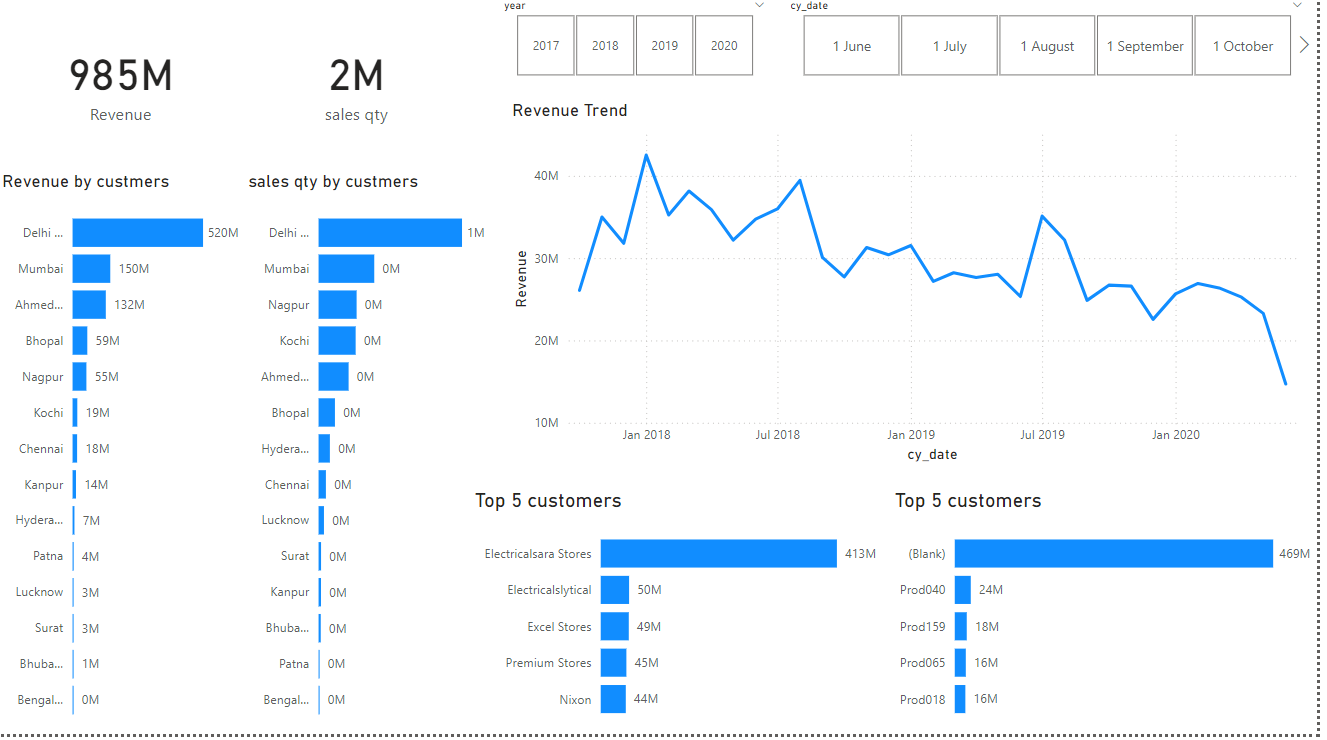

The page's visual inventory and layout, read from the dashboard file:
{"tool":"powerbi","page":{"name":"Page 1","canvas":[1280,720],"ordinal":0},"visuals":[{"type":"card","fields":{"Values":["BaseMeasures.Revenue"]},"box":[0,0,239.2,172.6],"z":0},{"type":"card","fields":{"Values":["BaseMeasures.sales qty"]},"box":[239.2,0,219.6,172.6],"z":1000},{"type":"barChart","title":"Revenue by custmers","fields":{"Y":["BaseMeasures.Revenue"],"Category":["sales markets.markets_name"]},"box":[0,172.6,239.2,546.6],"z":2000},{"type":"barChart","title":"sales qty by custmers","fields":{"Y":["Sum(sales transactions.sales_qty)"],"Category":["sales markets.markets_name"]},"box":[239.2,172.6,239.2,546.6],"z":3000},{"type":"slicer","fields":{"Values":["sales date.cy_date"]},"box":[757.1,1.5,522.4,86.3],"z":4000},{"type":"slicer","fields":{"Values":["sales date.year"]},"box":[478.5,1.5,278.6,86.3],"z":5000},{"type":"barChart","title":"Top 5 customers","fields":{"Y":["BaseMeasures.Revenue"],"Category":["sales customers.custmer_name"]},"box":[458.8,481.5,407.3,237.7],"z":5001},{"type":"barChart","title":"Top 5 customers","fields":{"Y":["BaseMeasures.Revenue"],"Category":["sales products.product_code"]},"box":[866.1,481.5,413.4,237.7],"z":5002},{"type":"lineChart","title":"Revenue Trend","fields":{"Y":["BaseMeasures.Revenue"],"Category":["sales date.cy_date"]},"box":[495.1,104.5,784.4,355.8],"z":5003}]}

Visuals, with their boxes in screenshot pixels (x1, y1, x2, y2), scaled from the page's 1280x720 canvas onto the 1327x740 screenshot:
card - BaseMeasures.Revenue: locate(0, 0, 248, 177)
card - BaseMeasures.sales qty: locate(248, 0, 476, 177)
"Revenue by custmers" barChart: locate(0, 177, 248, 739)
"sales qty by custmers" barChart: locate(248, 177, 496, 739)
slicer - sales date.cy_date: locate(785, 2, 1326, 90)
slicer - sales date.year: locate(496, 2, 785, 90)
"Top 5 customers" barChart: locate(476, 495, 898, 739)
"Top 5 customers" barChart: locate(898, 495, 1326, 739)
"Revenue Trend" lineChart: locate(513, 107, 1326, 473)
